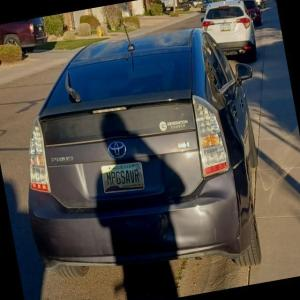Plate: (100, 161, 145, 194)
